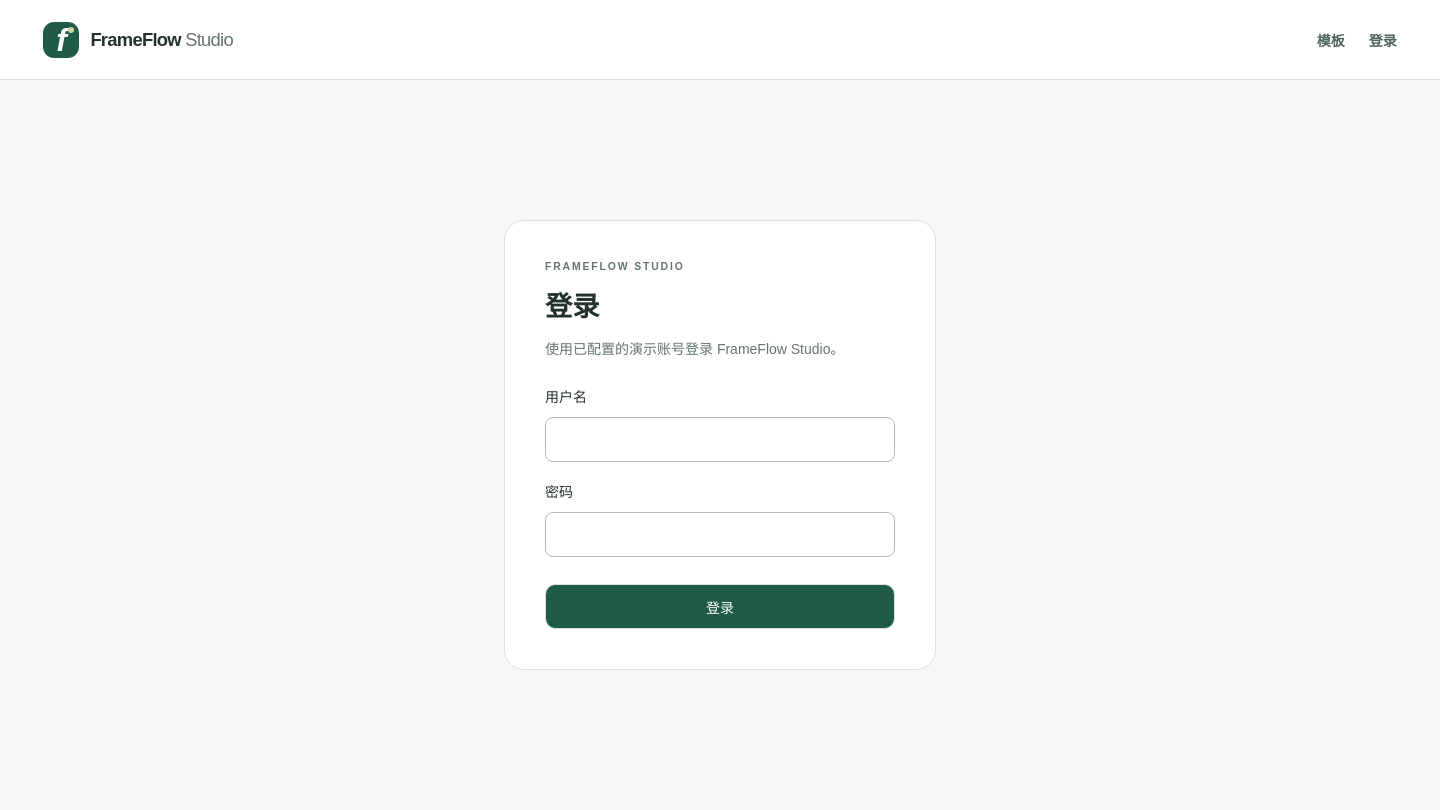
shows generic credentials error and does not auto-retry
expect the button "登录" is enabled: met, box top-left (545, 584), bottom-right (895, 629)
Type "demo-a" into the field labelled "用户名". click: (720, 440)
box: top-left (545, 417), bottom-right (895, 462)
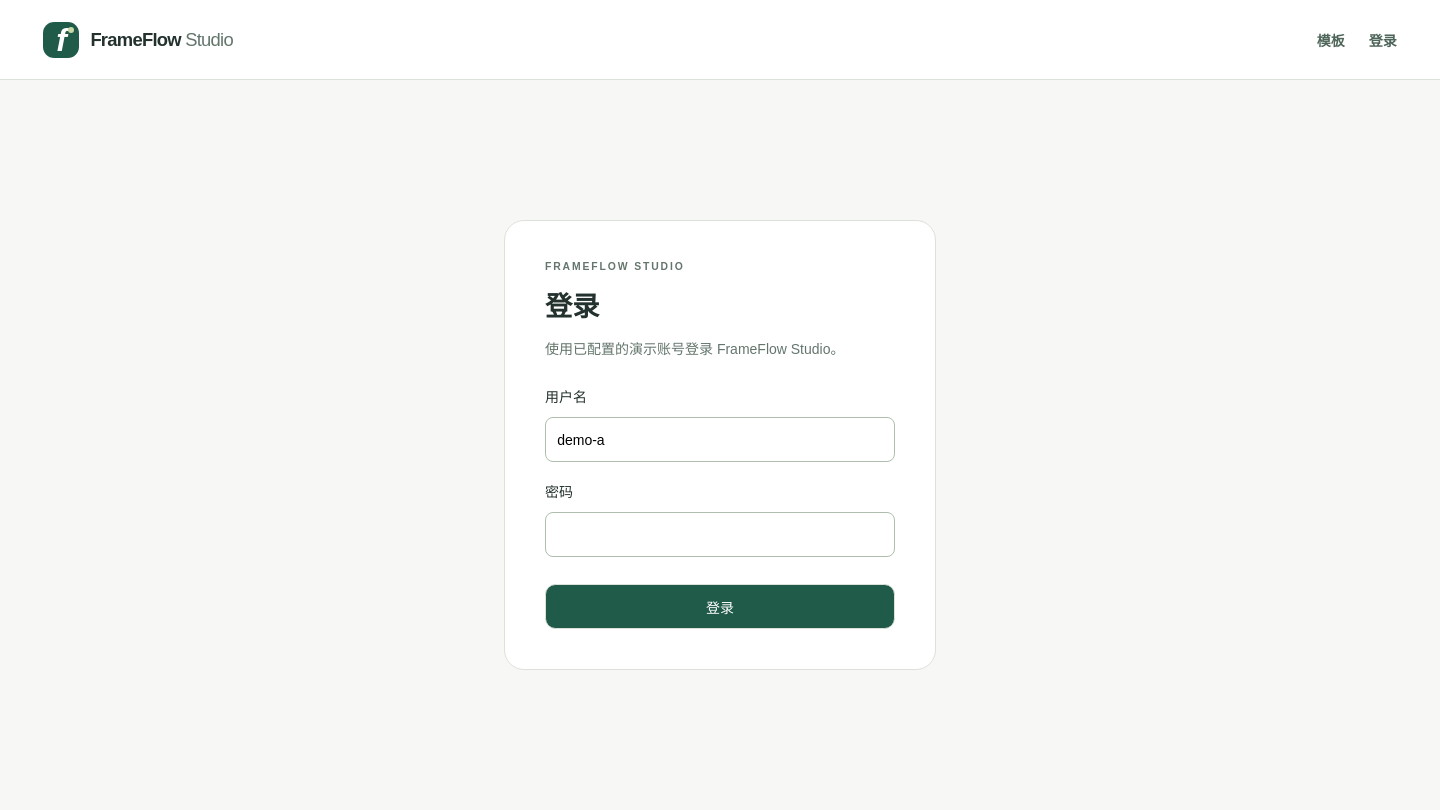
Type "wrong" into the password field labelled "密码". click: (720, 535)
box: top-left (545, 512), bottom-right (895, 557)
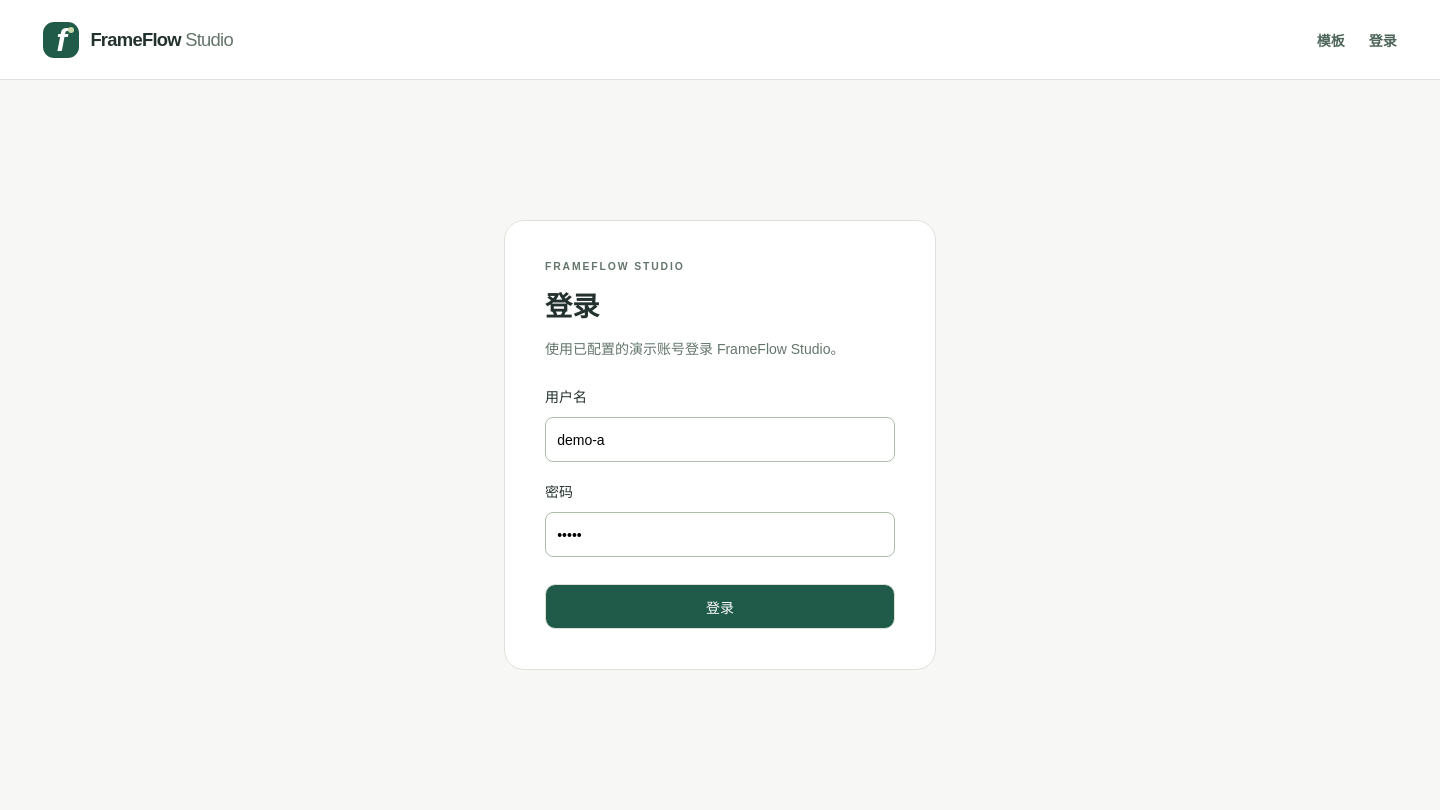
Click the button "登录". click: (720, 607)
box: top-left (545, 584), bottom-right (895, 629)
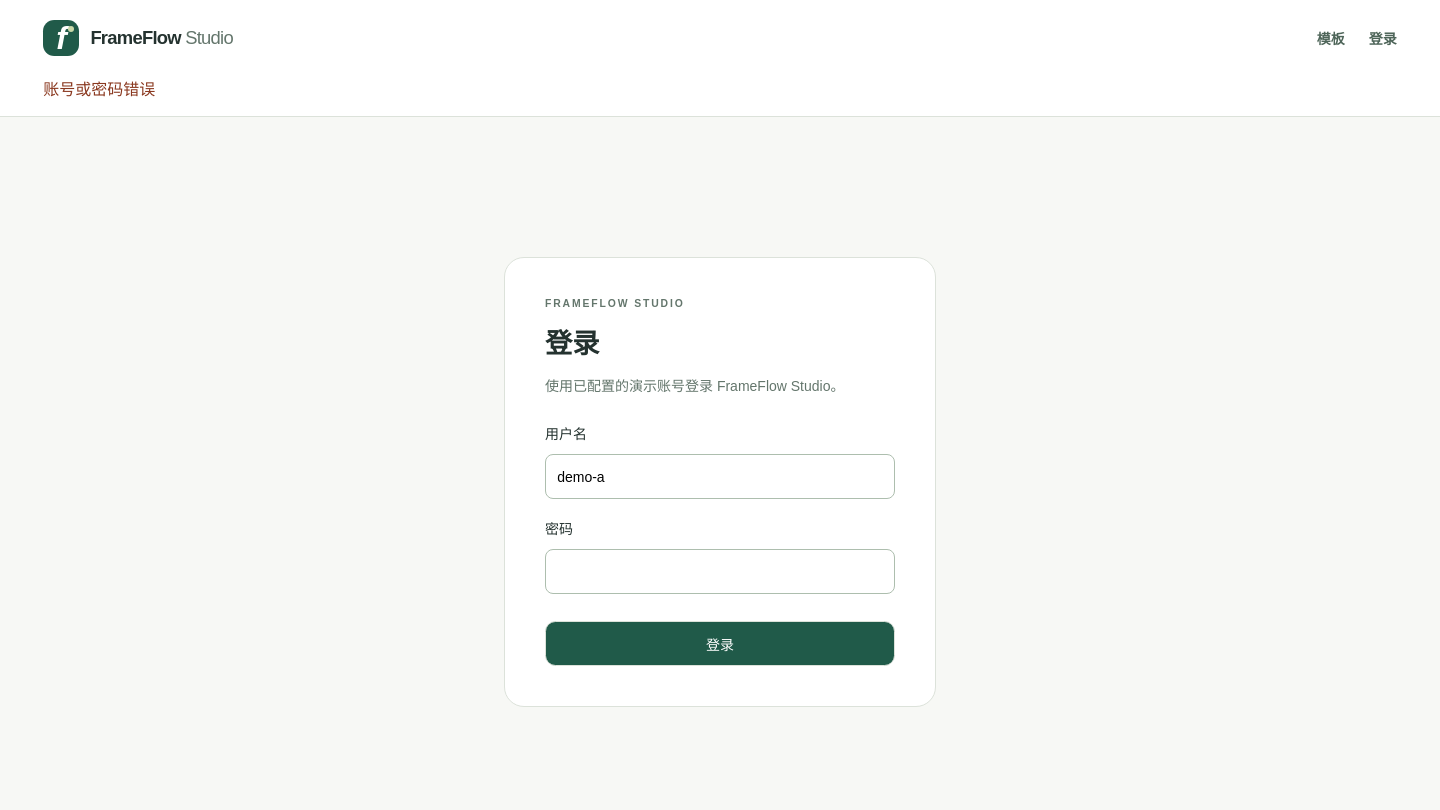
expect the message reads "账号或密码错误": met, box top-left (43, 81), bottom-right (155, 98)
